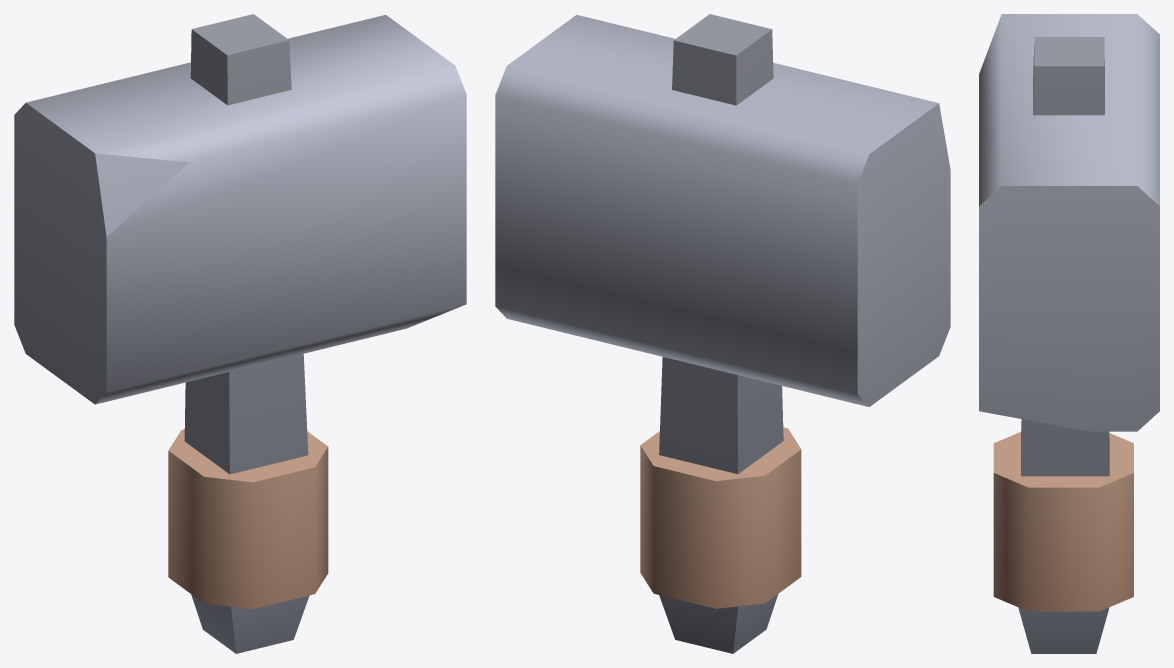
Rendered from tool-hammer-upgraded.glb.
3 renders of one model, left to right at view 1: azimuth 30°, elevation 25°; view 2: azimuth 150°, elevation 25°; view 3: azimuth 270°, elevation 25°, orthographic. The views are drawn at different scales.
Parts seen in each view (by area): view 1: tool-hammer-upgraded; view 2: tool-hammer-upgraded; view 3: tool-hammer-upgraded.
Part boxes in pixels (left/top/right/bottom): tool-hammer-upgraded: left=14, top=14, right=466, bottom=653; tool-hammer-upgraded: left=495, top=14, right=950, bottom=653; tool-hammer-upgraded: left=979, top=14, right=1159, bottom=653.
Bounding box in the file's own units: 0.1161 × 0.1846 × 0.0516.
